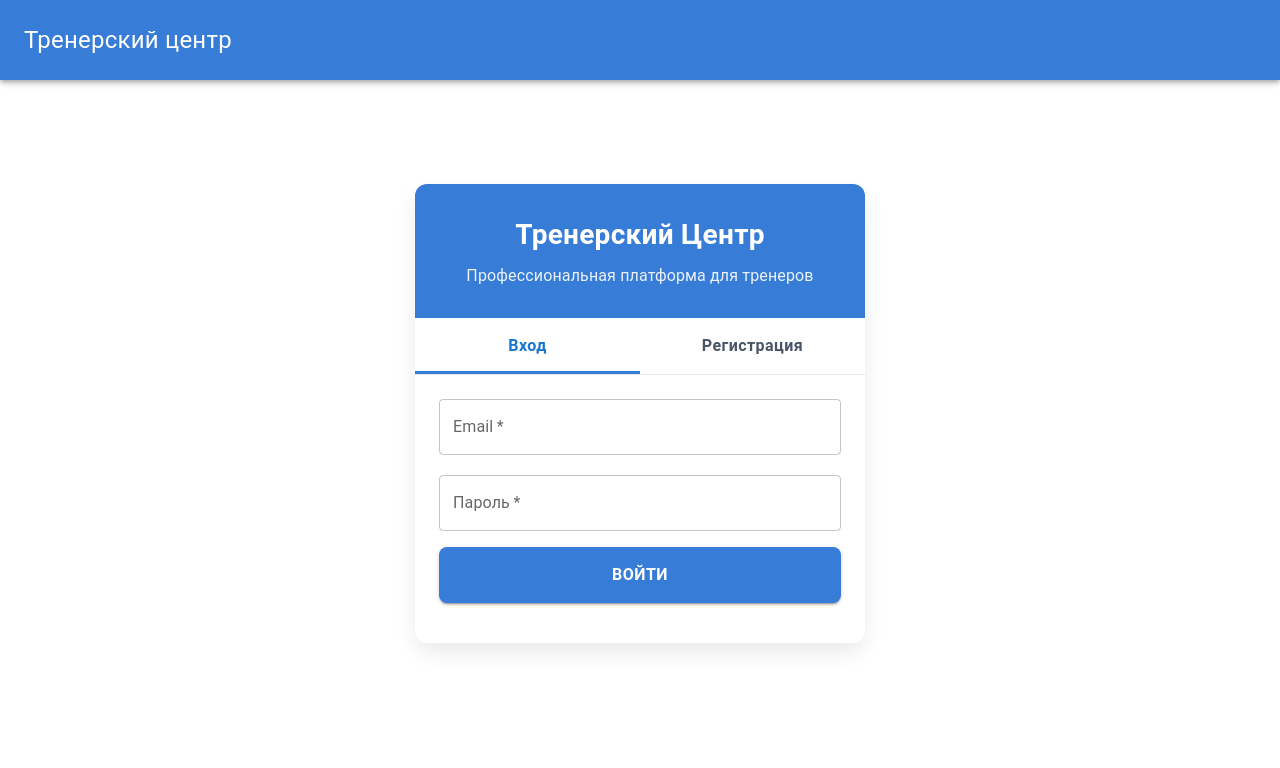
AuthPage › переключает вкладку на регистрацию
Click the tab "Регистрация": click(752, 346) top-left (640, 318), bottom-right (865, 374)
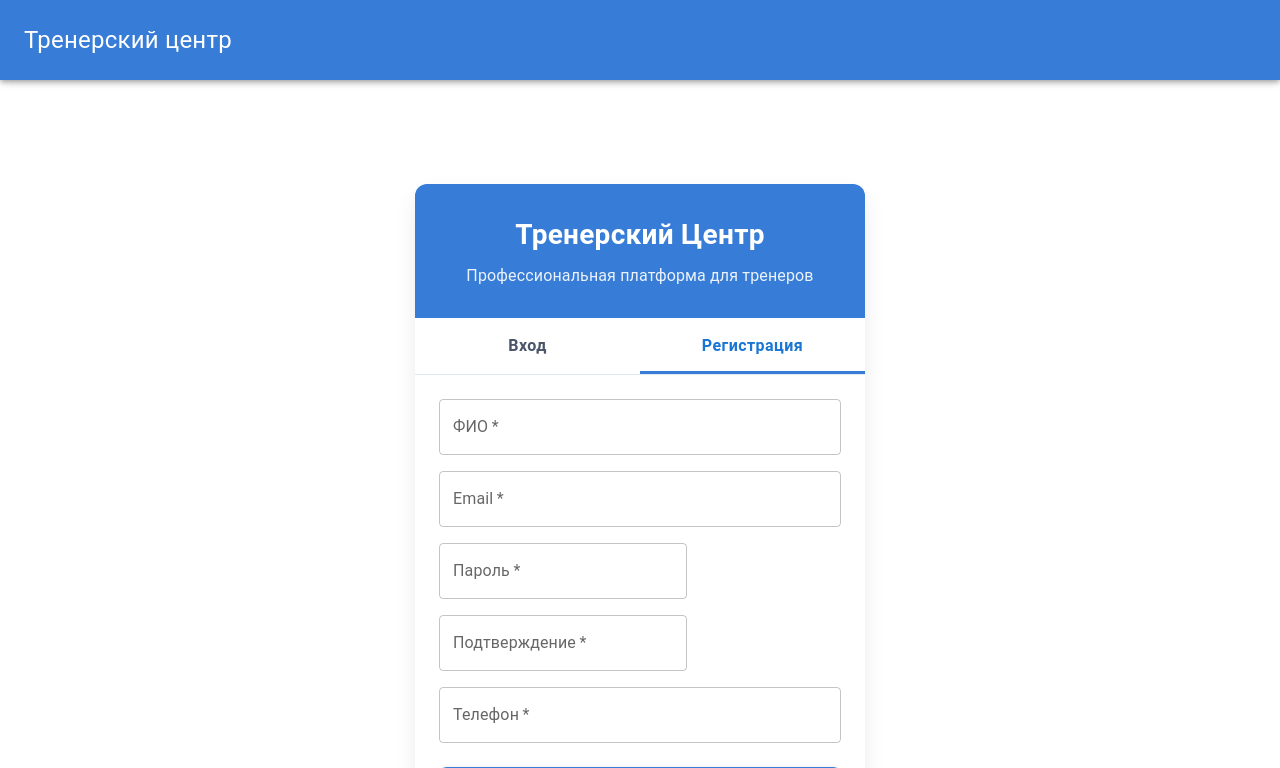
expect the field labelled "ФИО *" is shown: met, box top-left (439, 399), bottom-right (841, 455)
expect the field labelled "Телефон *" is shown: met, box top-left (439, 687), bottom-right (841, 743)
